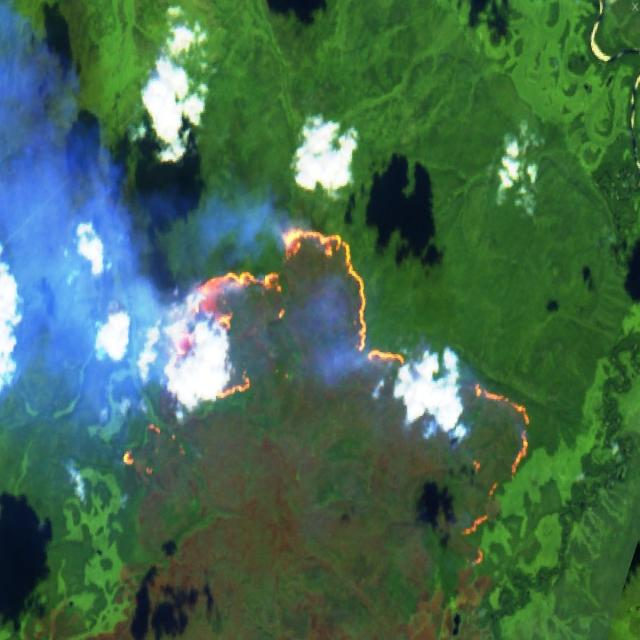fire: (119, 223, 532, 570)
